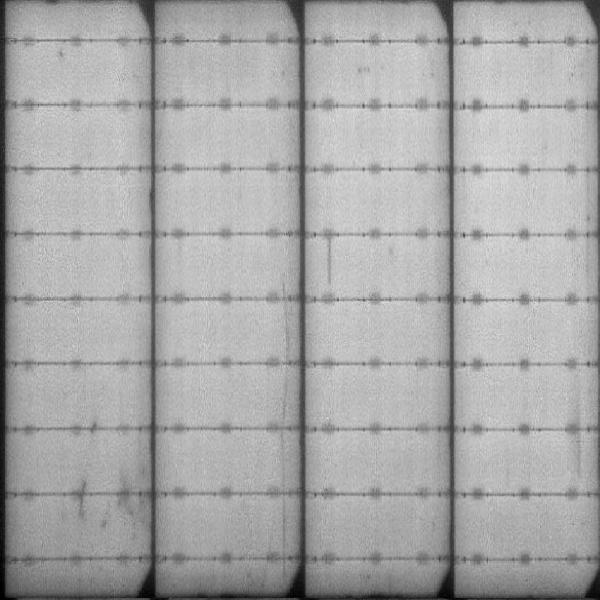scratch: (278, 281, 293, 358), (275, 497, 289, 559), (72, 469, 90, 514), (325, 234, 337, 297), (280, 370, 292, 423), (278, 432, 287, 489)
